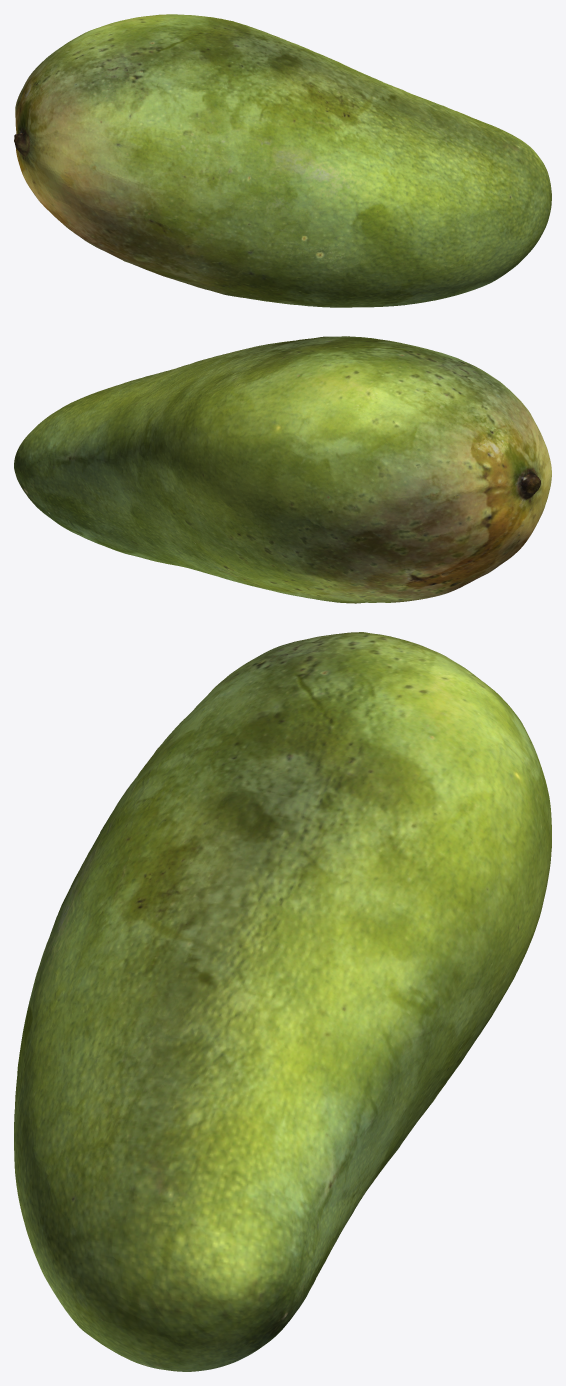
The model's file is mango.fbx.
The picture shows the model from 3 angles, top to bottom: view 1: azimuth 30°, elevation 25°; view 2: azimuth 150°, elevation 25°; view 3: azimuth 270°, elevation 25°; orthographic projection. The views are drawn at different scales.
Visible parts, largest first — view 1: vietnam mango; view 2: vietnam mango; view 3: vietnam mango.
Part boxes in pixels (bbox=[...]): vietnam mango: bbox=[14, 14, 551, 307]; vietnam mango: bbox=[14, 336, 551, 603]; vietnam mango: bbox=[14, 632, 551, 1371].
Bounding box in the file's own units: 17911 × 9402 × 9950.
